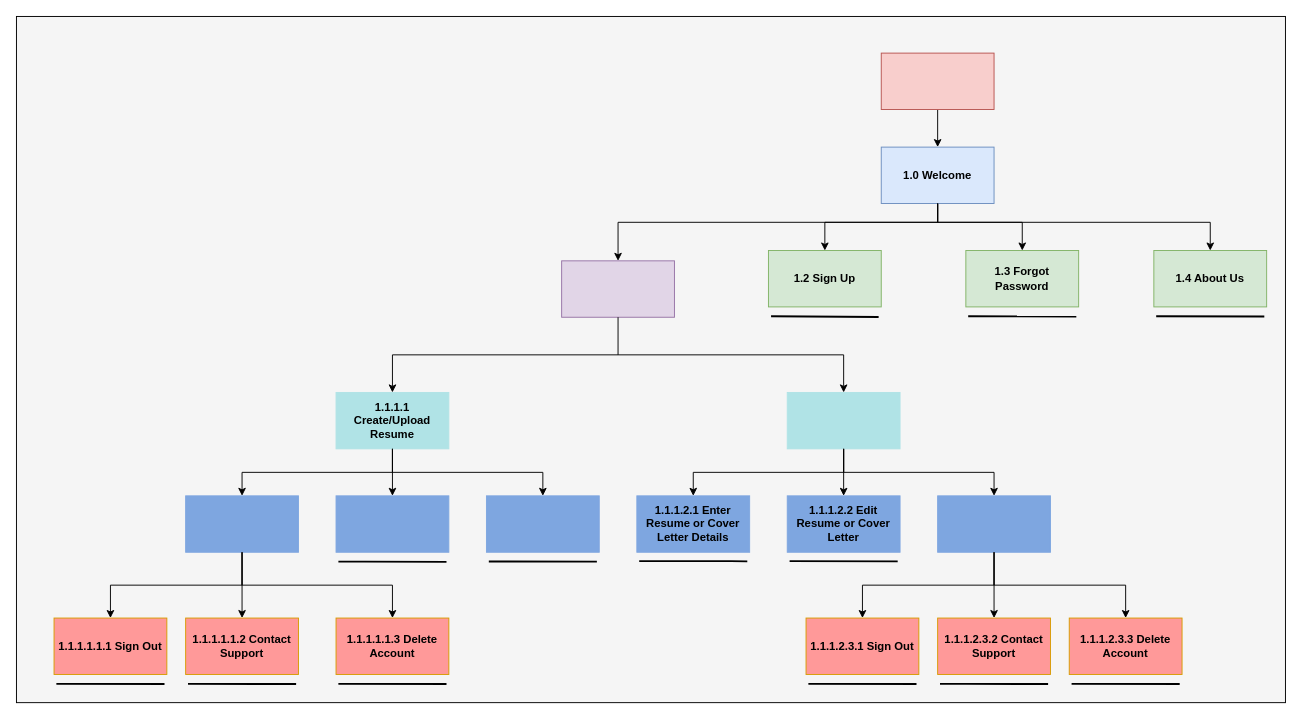
Some shapes in this 1302 by 719 pixel diagram are drawn without their labels. Here are the shapes that lost their labels. From the top down, the centre of each, then its label:
(x=937, y=81): 0.0 Run App
(x=617, y=288): 1.1.1 Home Page
(x=843, y=420): 1.1.1.2 Create/Upload Cover Letter
(x=241, y=523): 1.1.1.1.1 Toolbar
(x=392, y=523): 1.1.1.1.2 Enter Details to Create Resume
(x=542, y=523): 1.1.1.1.3 Edit Uploaded Resume
(x=993, y=523): 1.1.1.2.3 Toolbar
